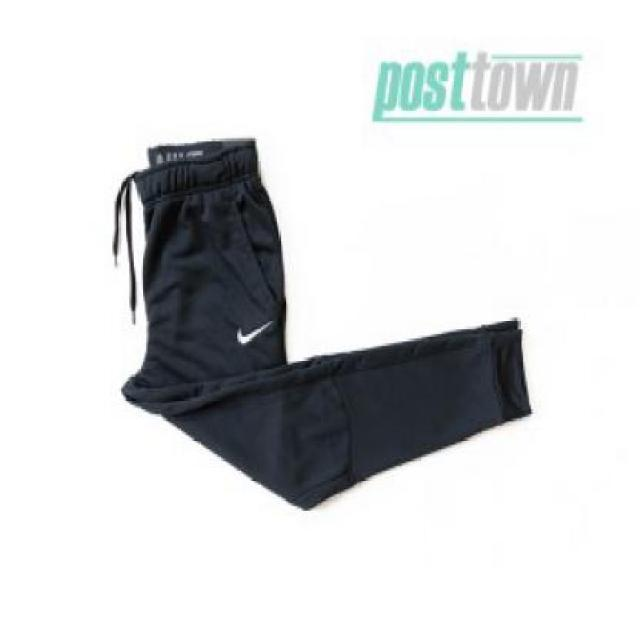Nike: (234, 317, 270, 342)
